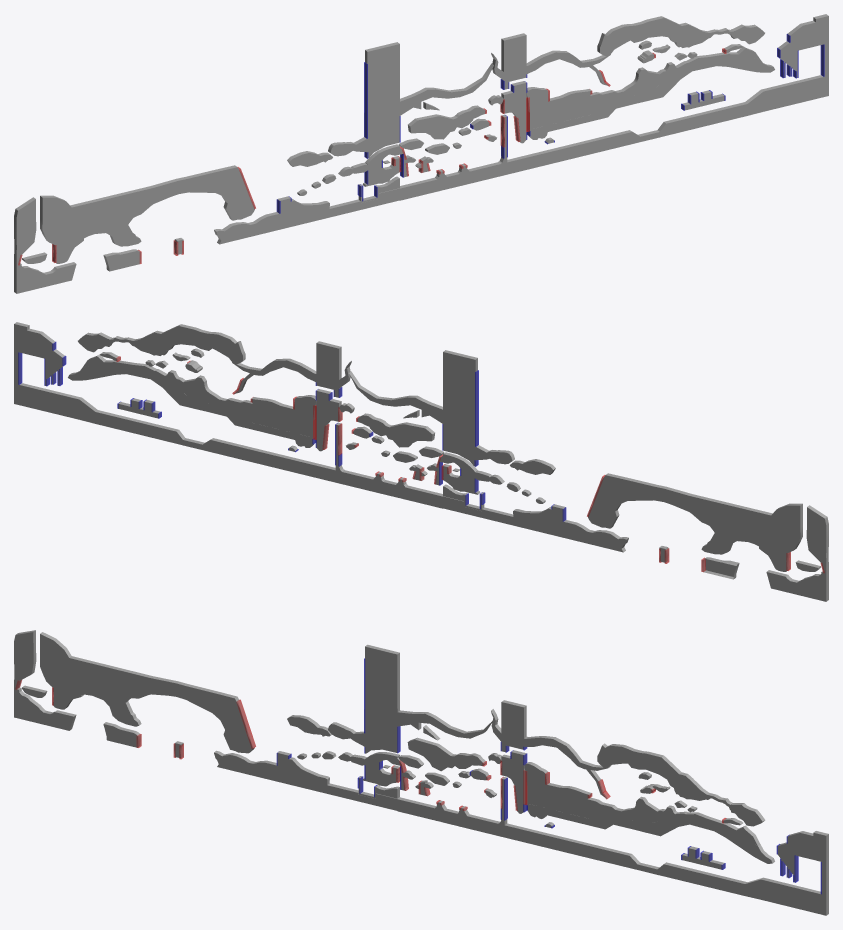
The model's file is Phase_1.fbx.
3 renders of one model, top to bottom at view 1: azimuth 30°, elevation 25°; view 2: azimuth 150°, elevation 25°; view 3: azimuth 330°, elevation 25°, orthographic.
Parts seen in each view (by area): view 1: polySurface24; view 2: polySurface24; view 3: polySurface24.
Part boxes in pixels (<box>): polySurface24: <box>14,14,828,293</box>; polySurface24: <box>14,322,828,601</box>; polySurface24: <box>14,630,828,915</box>.
Size of the model in its own units: 540 by 100 by 6.16.
